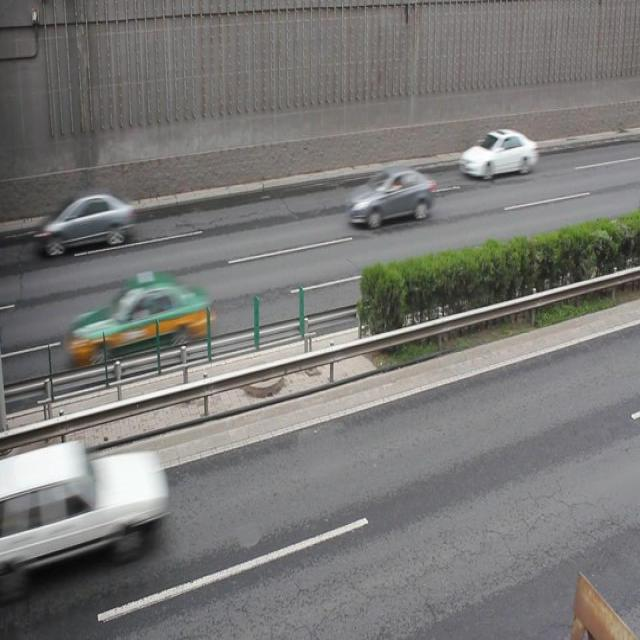car: (22, 439, 162, 571), (69, 272, 211, 361), (40, 189, 132, 254), (348, 166, 432, 226), (460, 126, 535, 180)
